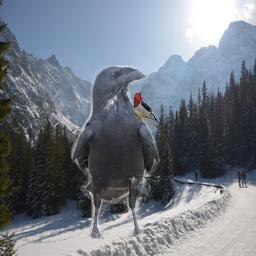Crow: (71, 65, 161, 240)
Woodpecker: (132, 90, 160, 126)
